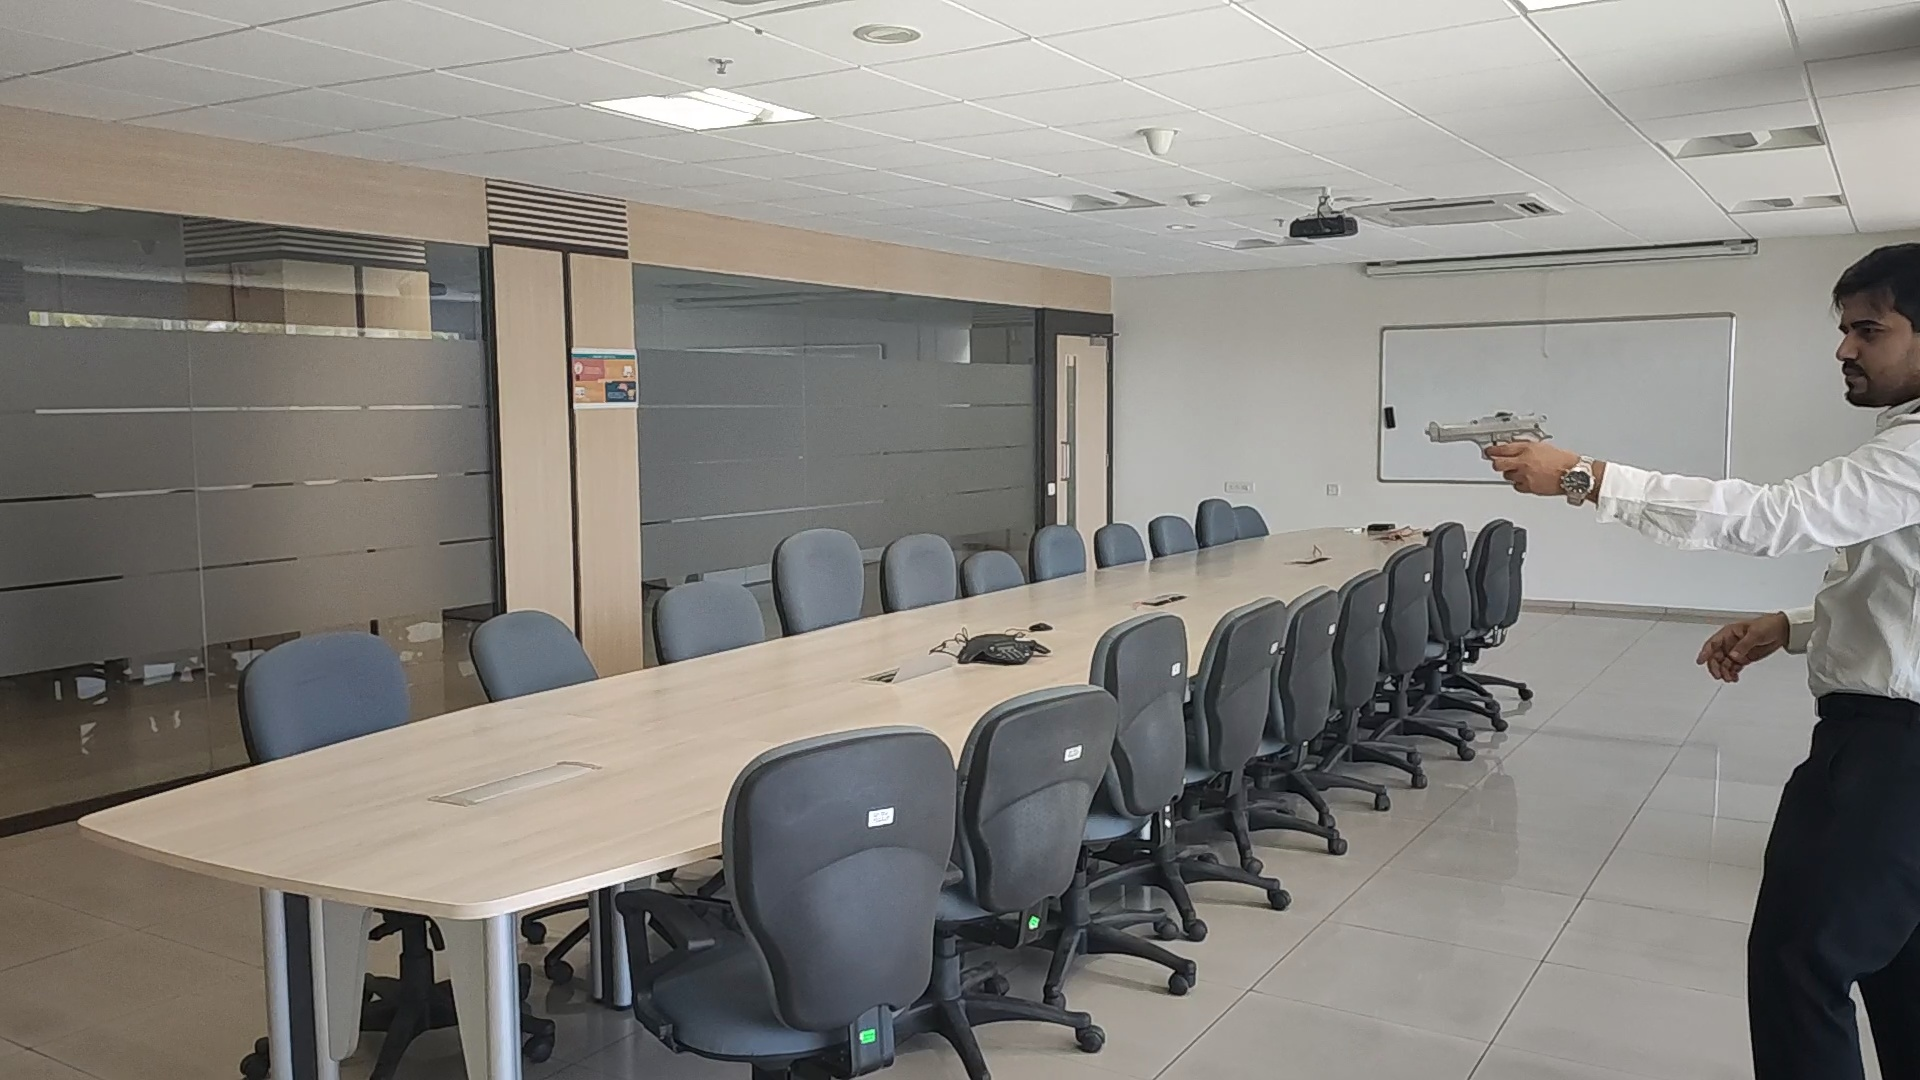gun: (1424, 407, 1552, 459)
